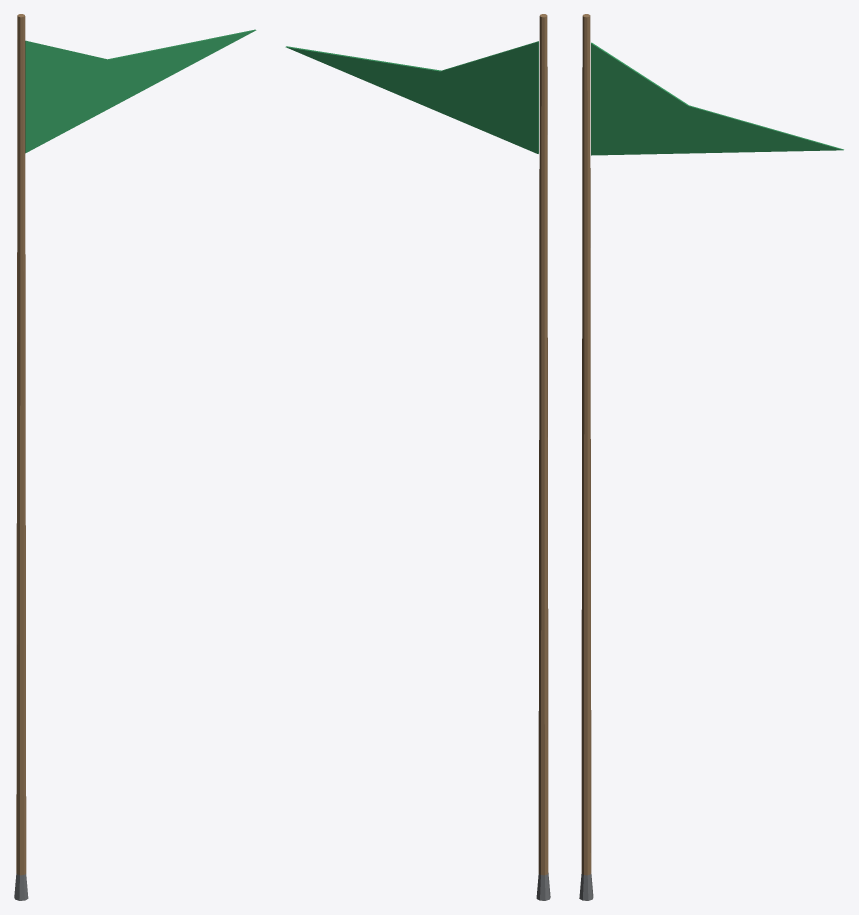
Rendered from flag-pickup.glb.
The picture shows the model from 3 angles, left to right: view 1: azimuth 30°, elevation 25°; view 2: azimuth 150°, elevation 25°; view 3: azimuth 330°, elevation 25°; orthographic projection.
Parts seen in each view (by area): view 1: flag-pickup; view 2: flag-pickup; view 3: flag-pickup.
Part boxes in pixels (<box>): flag-pickup: <box>14,14,256,900</box>; flag-pickup: <box>285,14,550,900</box>; flag-pickup: <box>579,14,843,900</box>.
Size of the model in its own units: 0.8 by 2.67 by 0.086.
